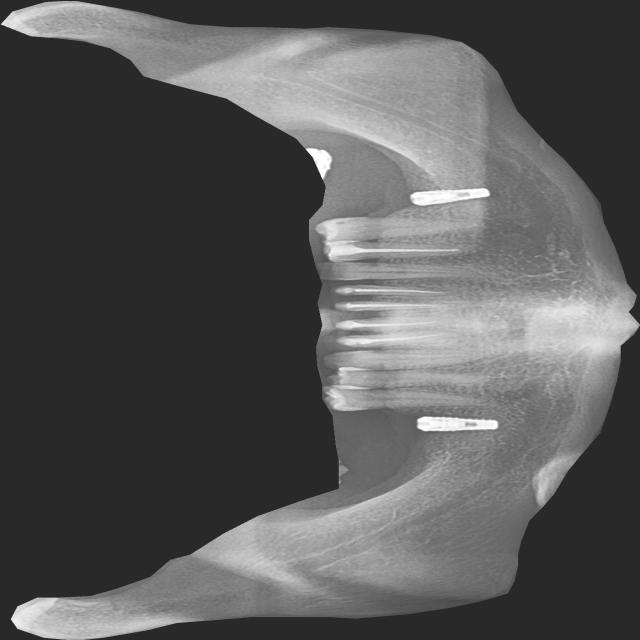mandibula: (1, 0, 640, 640)
